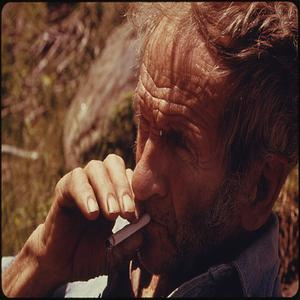cigarette: (106, 214, 150, 248)
